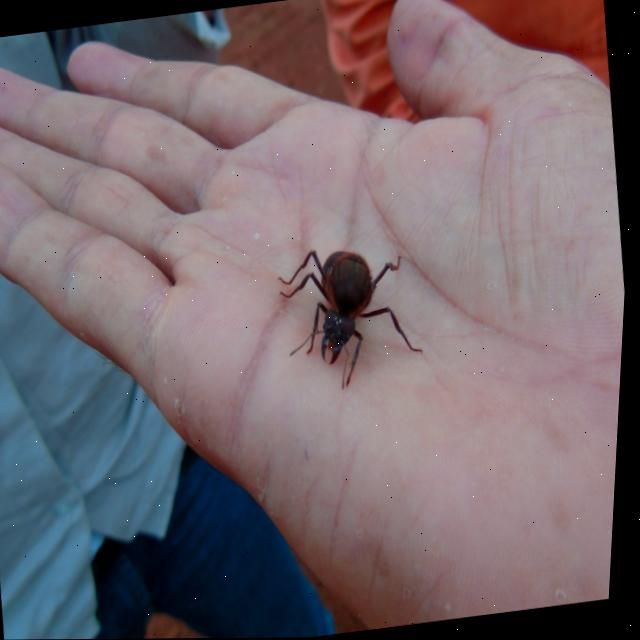Alive-Female-Dealate: (273, 238, 434, 398)
